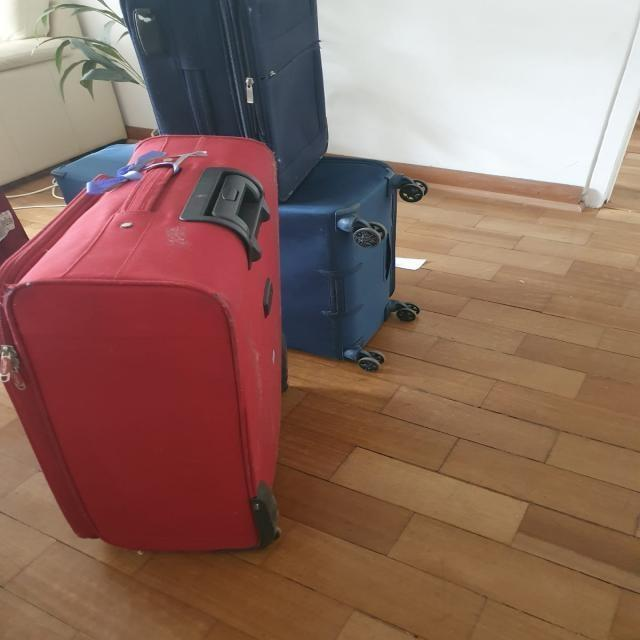Suitcase: (0, 134, 288, 555), (50, 139, 425, 374), (118, 0, 331, 208)
